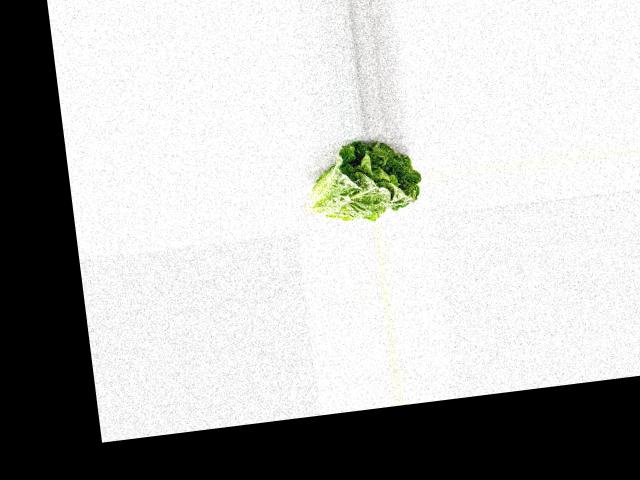lettuce: (298, 132, 424, 230)
